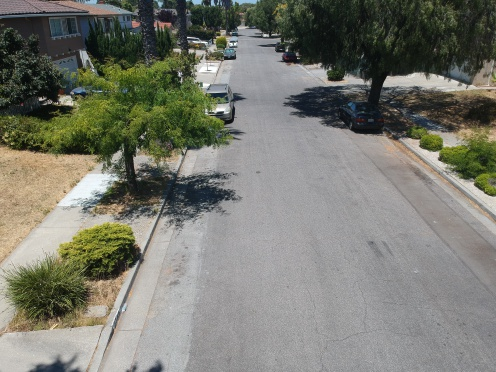bottle: (118, 298, 131, 316)
